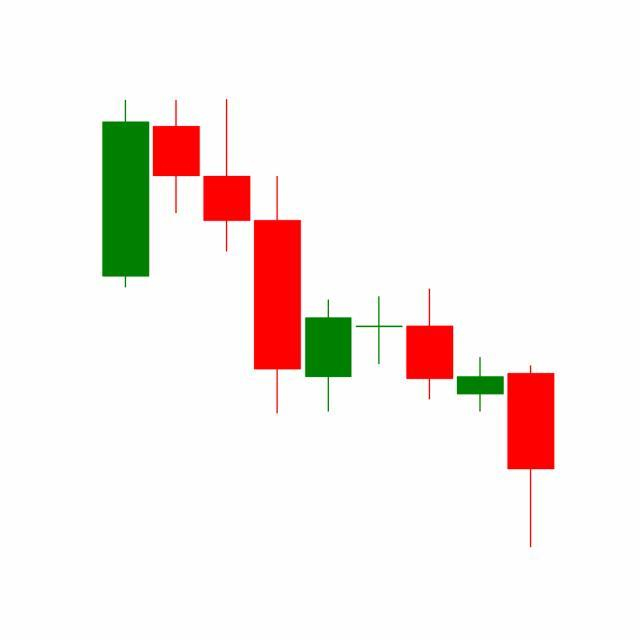Hikkake Pattern: (302, 285, 555, 549)
